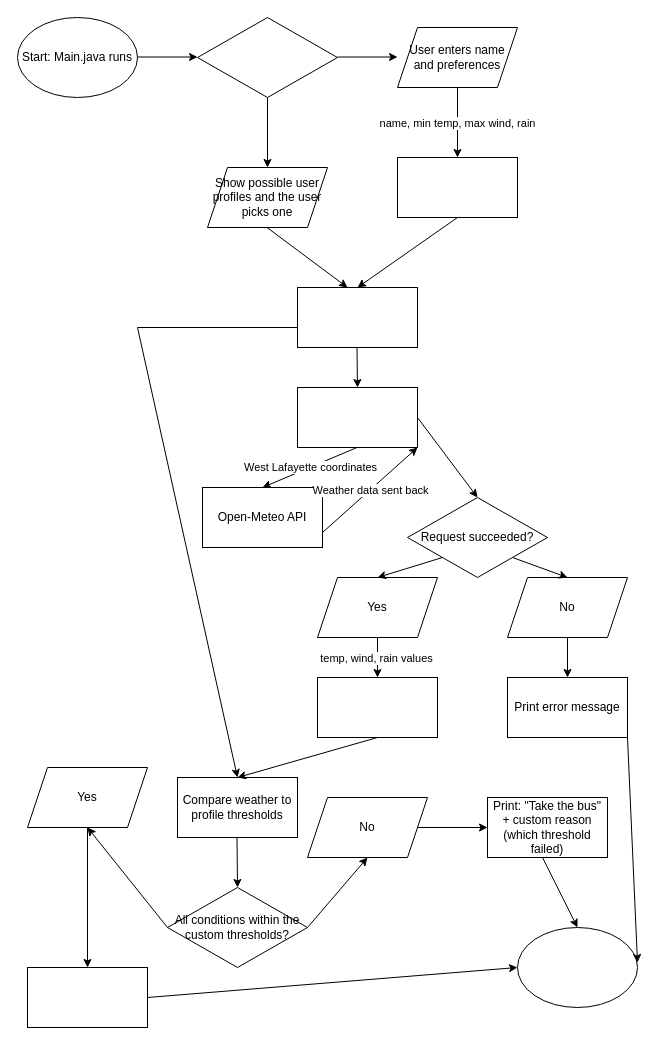
Some shapes in this 663 by 1045 pixel diagram are drawn without their labels. Each missing label, with the centre of its shape:
Any saved profiles?: (x=267, y=57)
Collect temp, wind, and rain: (x=377, y=707)
Create Profile object and save to profile.csv: (x=457, y=187)
End!: (x=577, y=967)
Print: "Walk": (x=87, y=997)
Profile is chosen: (x=357, y=317)
Send HTTP request: (x=357, y=417)
